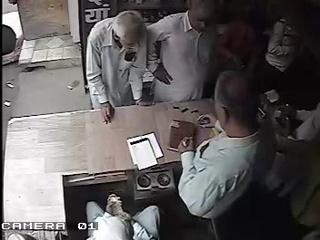Normal: (176, 70, 302, 240), (146, 0, 225, 103), (86, 10, 150, 124), (85, 194, 134, 240)
